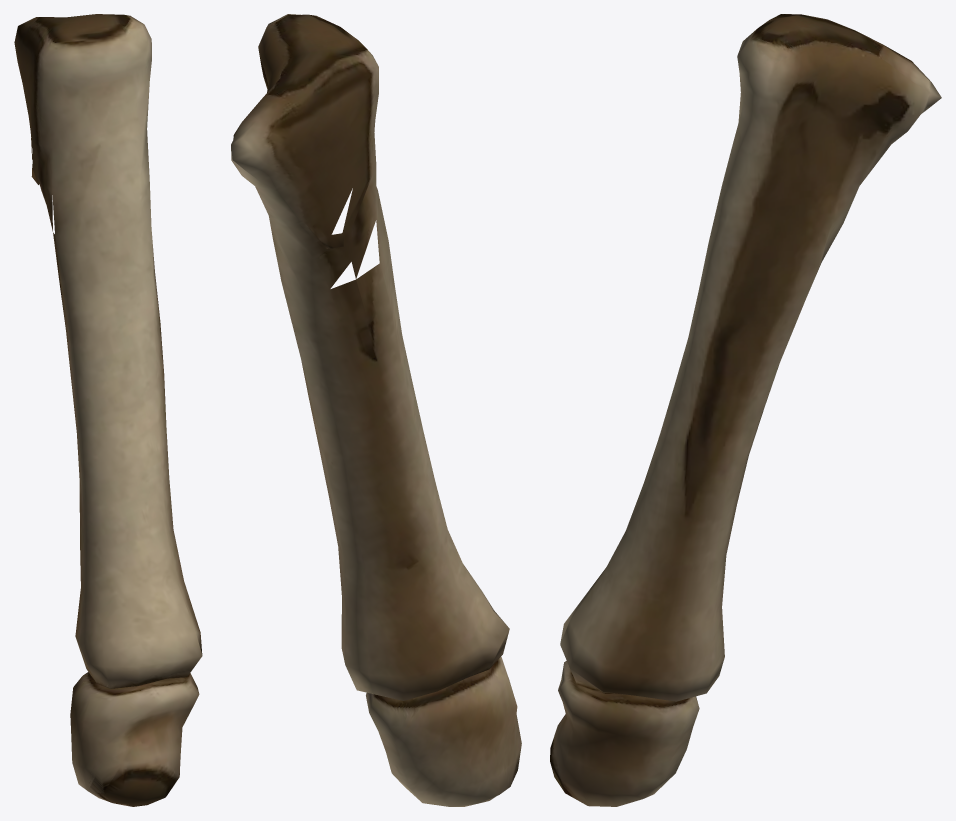
The model's file is Metatarsal_III.glb.
3 views of the same model, side by side, from view 1: azimuth 30°, elevation 25°; view 2: azimuth 150°, elevation 25°; view 3: azimuth 270°, elevation 25° (orthographic). The views are drawn at different scales.
Visible parts, largest first — view 1: Metatarsal_III_Left1:Group34819; view 2: Metatarsal_III_Left1:Group34819; view 3: Metatarsal_III_Left1:Group34819.
Boxes of the visible parts, x1,y1,x2,y2 form: Metatarsal_III_Left1:Group34819: (14, 14, 202, 806); Metatarsal_III_Left1:Group34819: (231, 14, 521, 806); Metatarsal_III_Left1:Group34819: (550, 14, 941, 806).
Size of the model in its own units: 12.49 by 60.12 by 26.72.
Materials: 1 (1 with a texture image).
